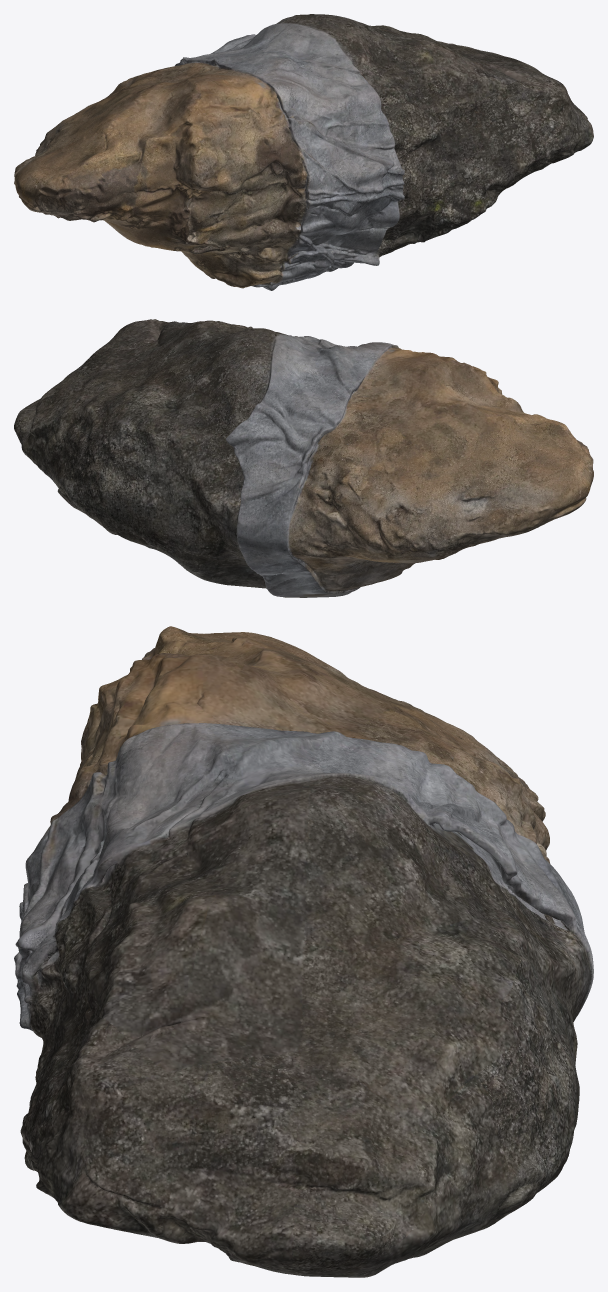
The model's file is stone.glb.
The picture shows the model from 3 angles, top to bottom: view 1: azimuth 30°, elevation 25°; view 2: azimuth 150°, elevation 25°; view 3: azimuth 270°, elevation 25°; orthographic projection. The views are drawn at different scales.
Size of the model in its own units: 1.9 by 0.7978 by 0.9174.
1 material, 1 textured.
